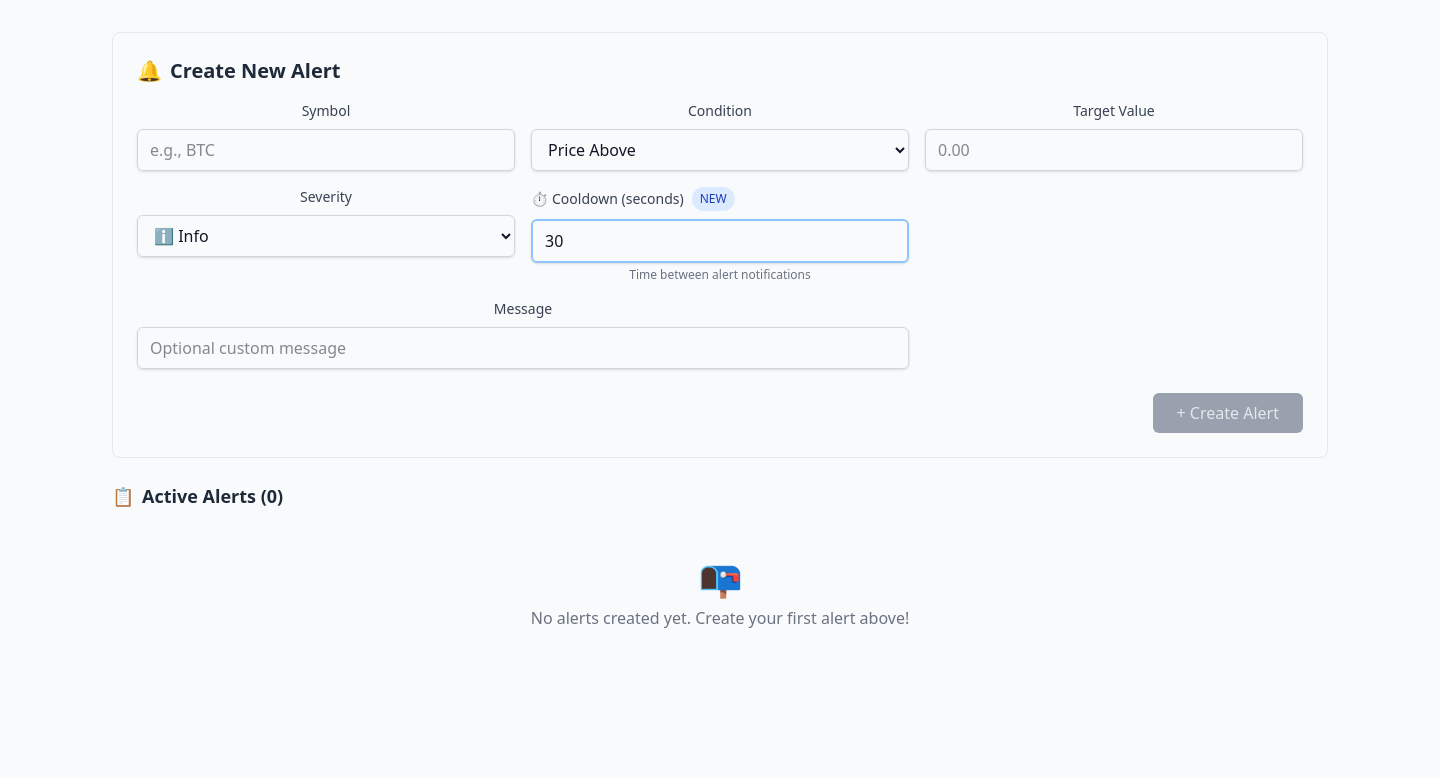
Scenario: AlertManager › allows editing an existing alert
Type "ADA" into the field named "symbol" at [326, 150], box [137,129,515,171]
Type "1.23" into the number field named "target value" at [1114, 150], box [925,129,1303,171]
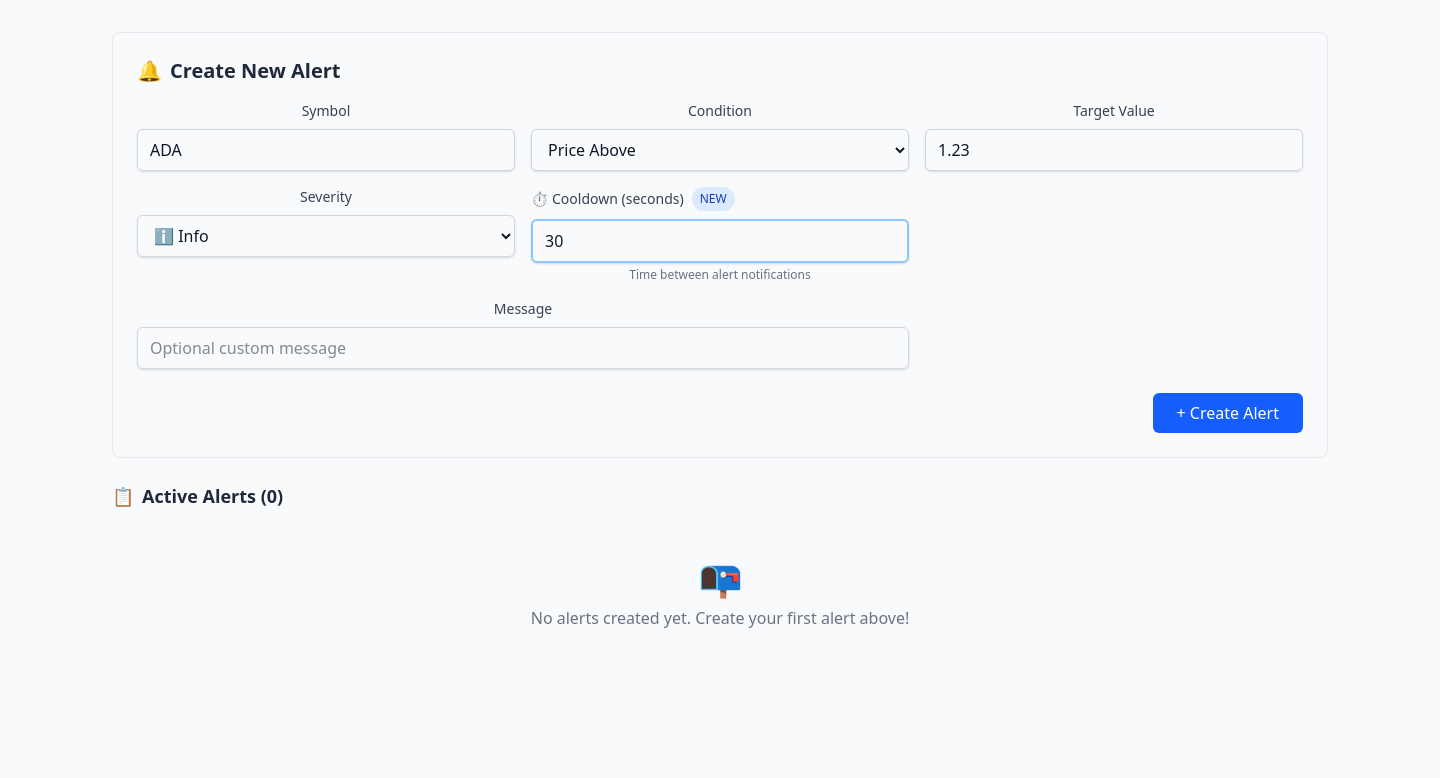
Type "Initial message" into the field labelled "Optional custom message" at [523, 348], box [137,327,909,369]
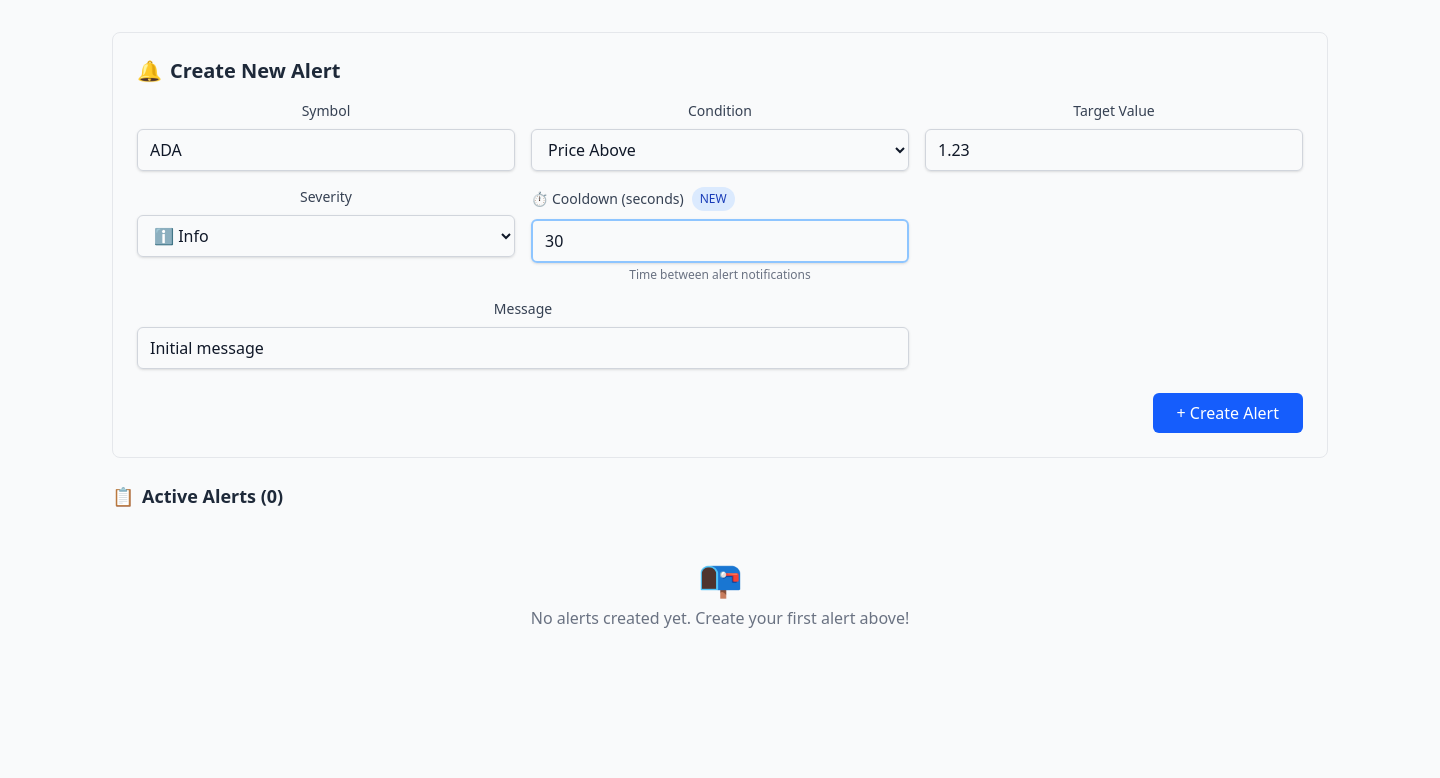
Click the button "+ Create Alert" at [1228, 413], box [1153,393,1303,433]
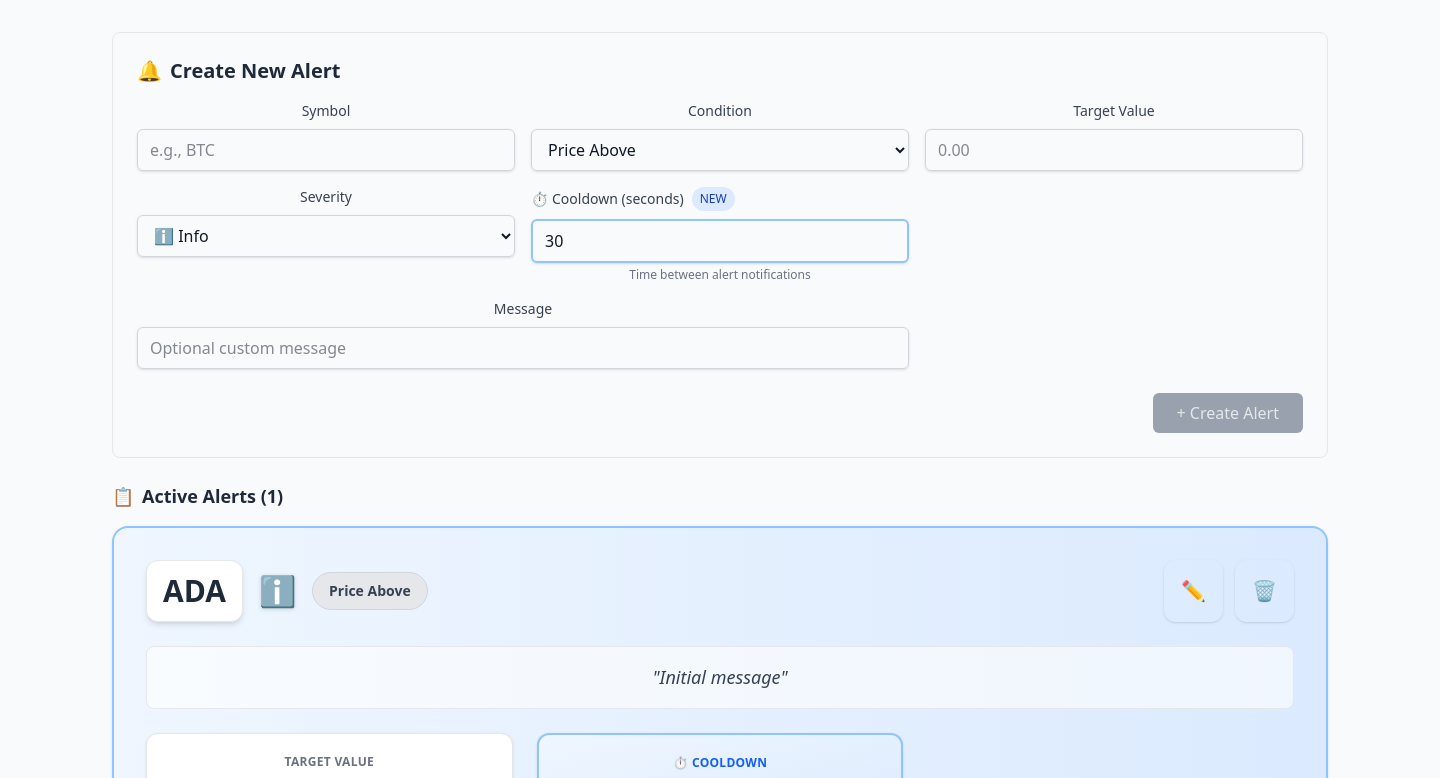
# click edit
Click the button named "edit alert" at [1194, 591], box [1164,560,1223,622]
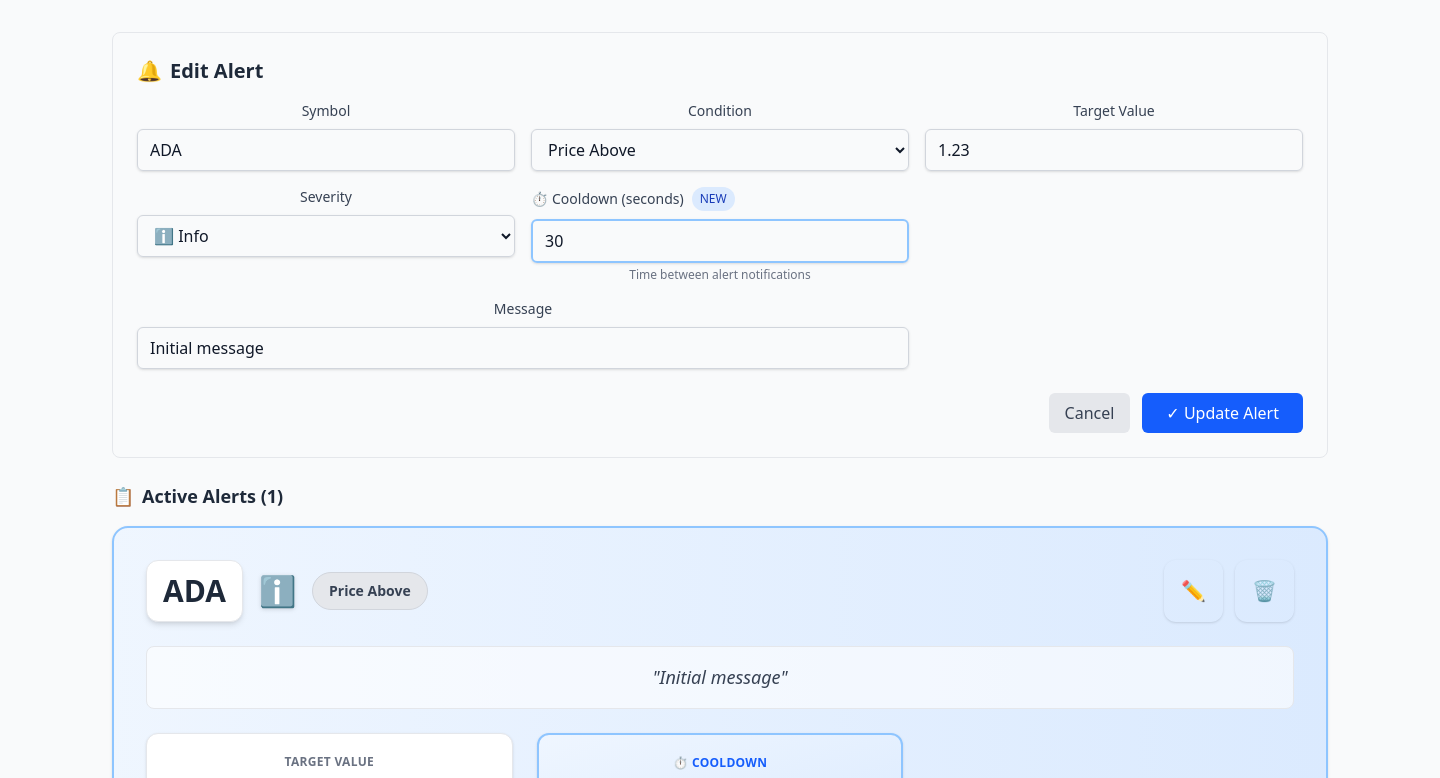
Replace the text in the field named "message" with "Updated message" at [523, 348], box [137,327,909,369]
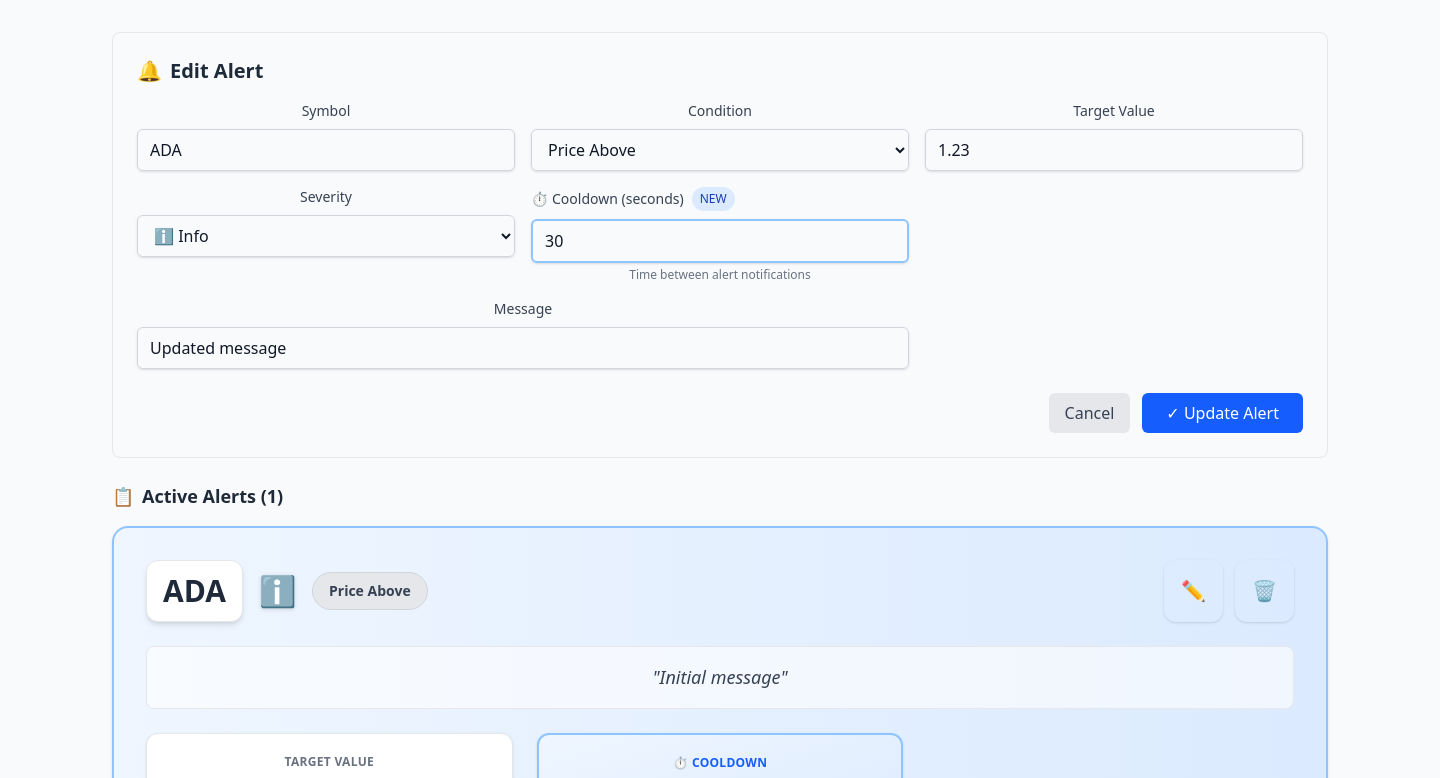
Click the button "✓ Update Alert" at [1223, 413], box [1142,393,1303,433]
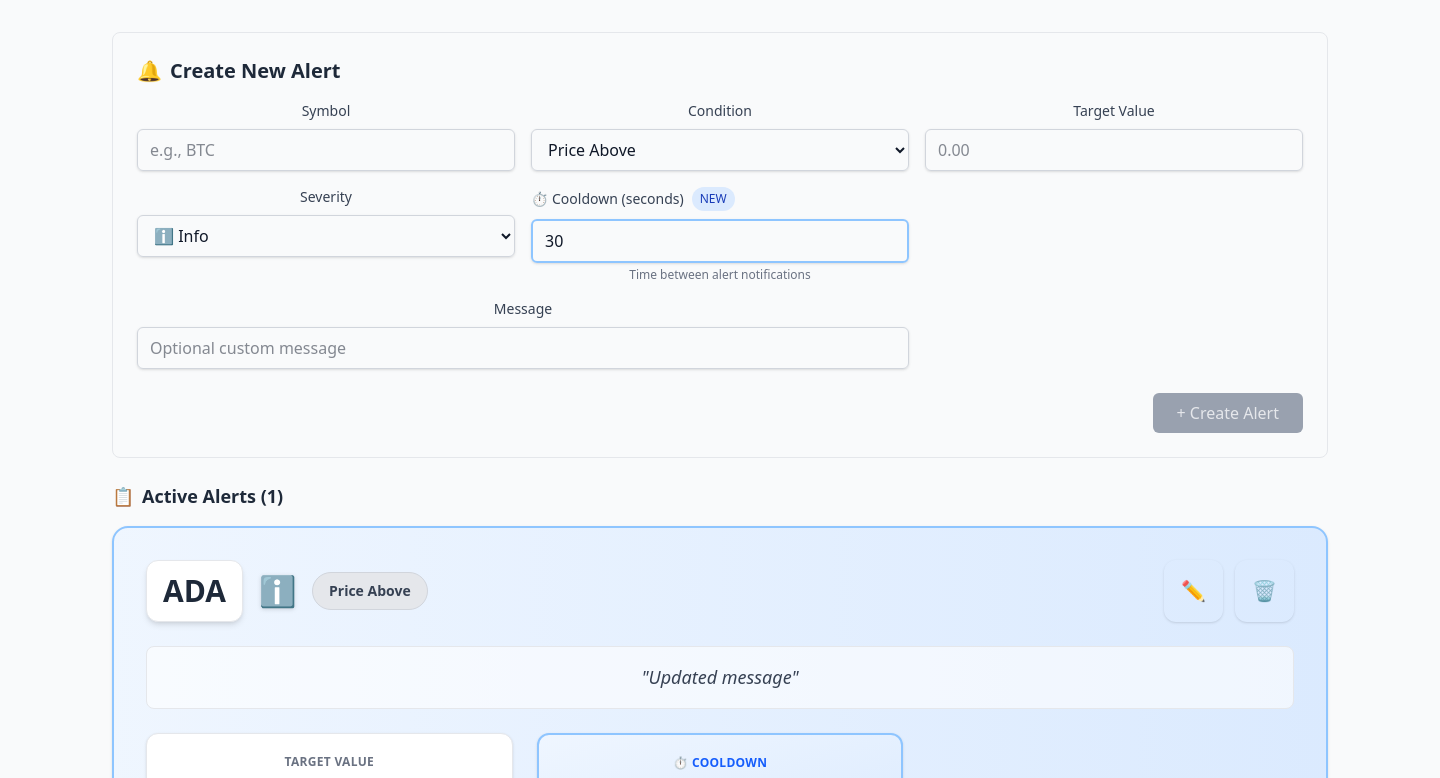
Expected: the text "\"Updated message\"" is shown, [641,665,799,689]
